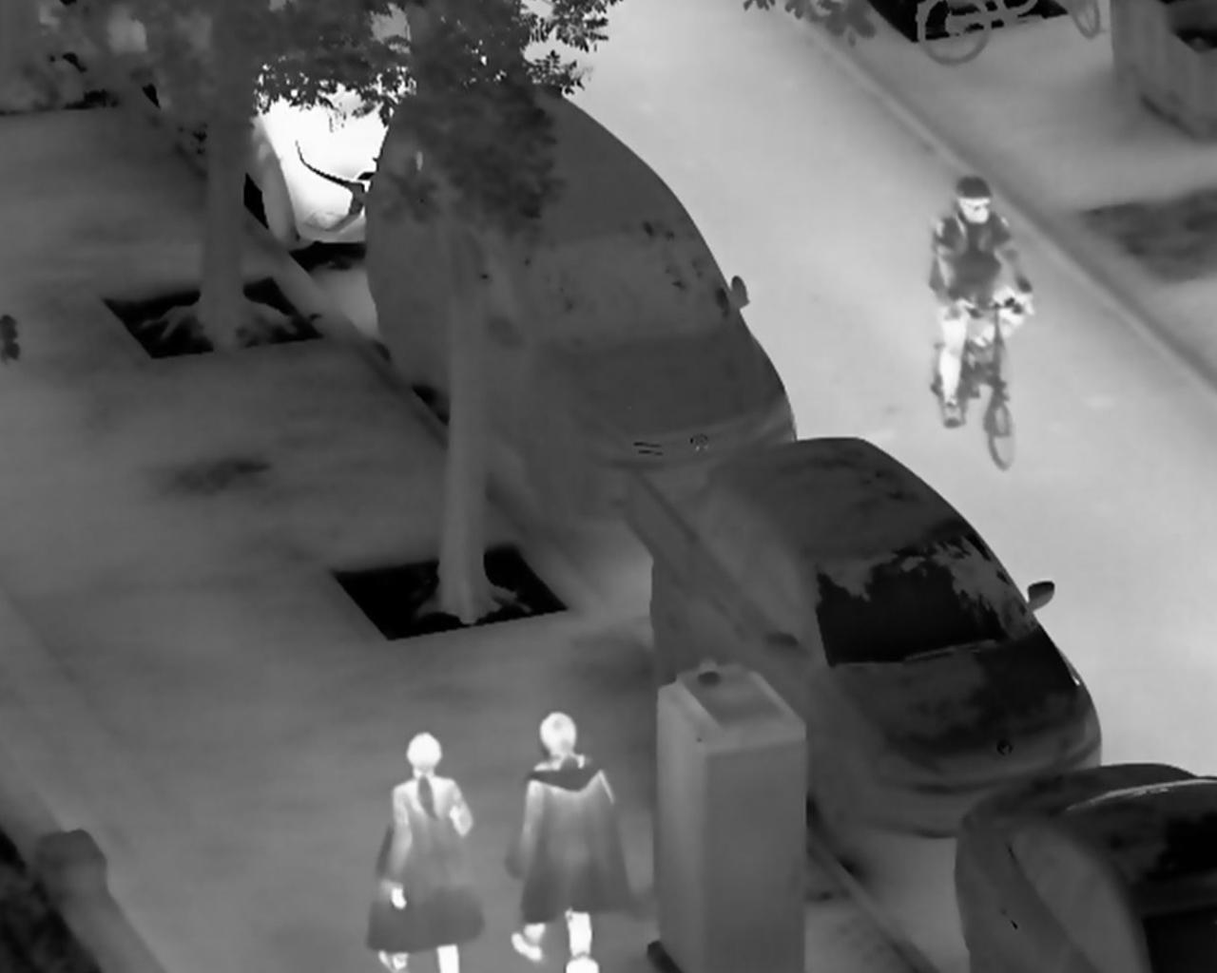person: (504, 710, 642, 973), (362, 730, 485, 973), (927, 173, 1036, 431)
